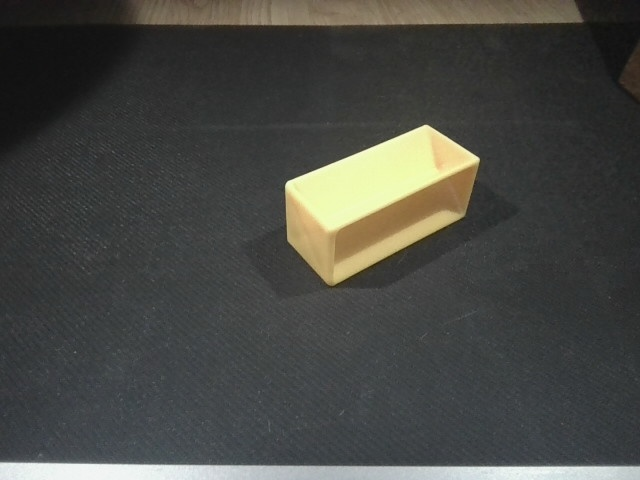YellowSample: (270, 121, 484, 287)
